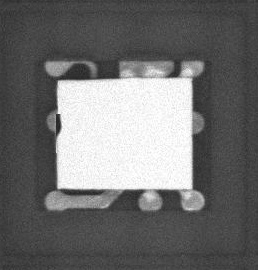DIE_BROKEN: (54, 111, 62, 137)
